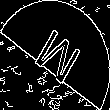M_SW: (27, 21, 83, 89)
